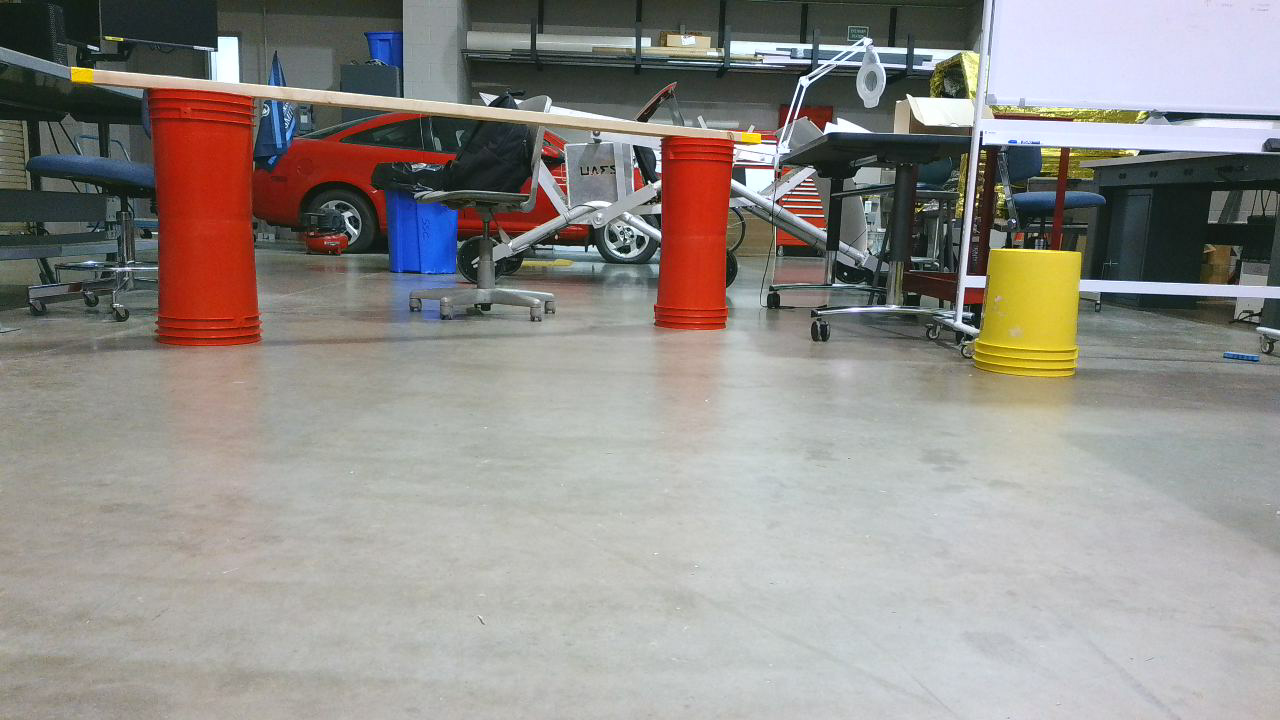red_bucket_arch: (156, 78, 743, 351)
yellow_bucket: (970, 253, 1101, 387)
